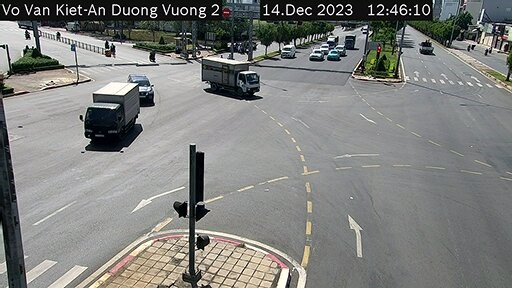car: (128, 73, 162, 107), (281, 41, 299, 63), (310, 45, 326, 67), (330, 48, 339, 68), (329, 31, 339, 48)
truck: (79, 74, 143, 145), (196, 51, 265, 101), (342, 28, 363, 51), (416, 38, 432, 58)
